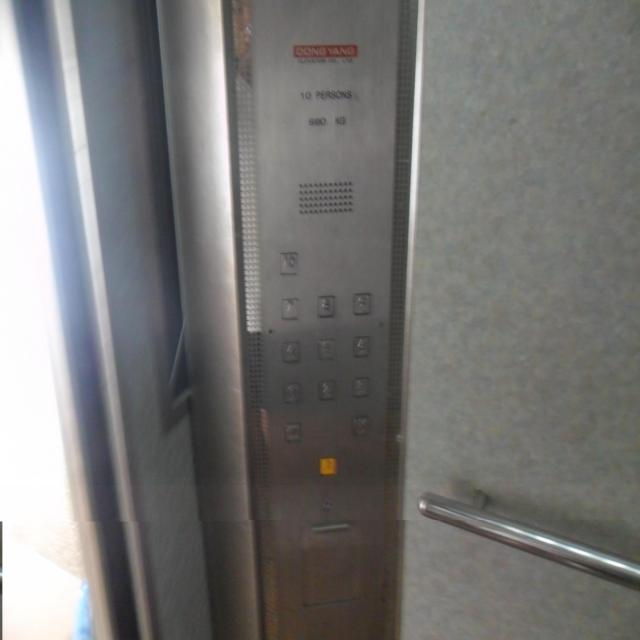1: (283, 382, 301, 404)
10: (278, 250, 298, 276)
2: (316, 378, 336, 402)
3: (350, 375, 370, 399)
4: (281, 340, 300, 364)
5: (316, 338, 336, 362)
7: (280, 296, 299, 321)
8: (316, 295, 336, 319)
9: (351, 292, 371, 316)
blur: (318, 456, 337, 478), (352, 336, 369, 358)
close: (350, 416, 368, 437)
open: (283, 422, 301, 443)
